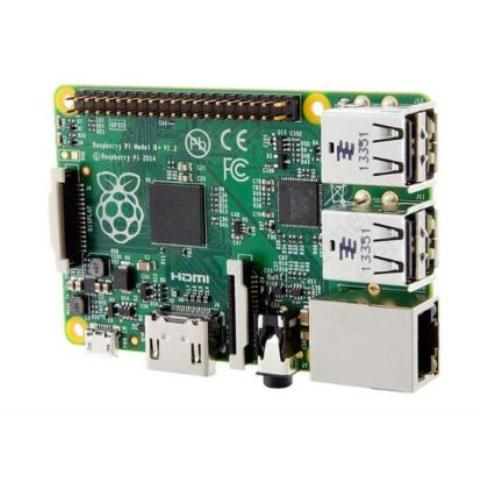Raspberry-Pi-1-Model-B-: (39, 76, 445, 400)
